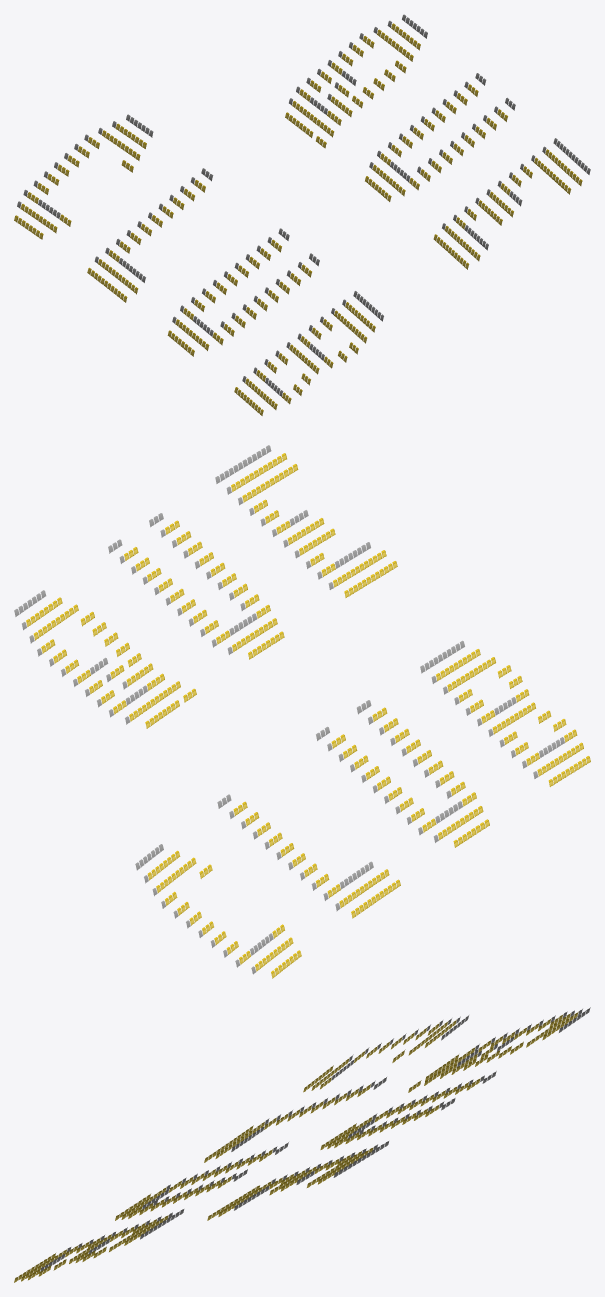
The model's file is bluechairs4justtext.obj.
The picture shows the model from 3 angles, top to bottom: view 1: azimuth 30°, elevation 25°; view 2: azimuth 150°, elevation 25°; view 3: azimuth 330°, elevation 25°; orthographic projection. The views are drawn at different scales.
Parts seen in each view (by area): view 1: sedie2anello164, sedie2anello03, sedie2anello165, sedie2anello02, sedie2anello163, sedie2anello169, sedie2anello01; view 2: sedie2anello164, sedie2anello03, sedie2anello165, sedie2anello163, sedie2anello02, sedie2anello169, sedie2anello01; view 3: sedie2anello164, sedie2anello03, sedie2anello165, sedie2anello163, sedie2anello02, sedie2anello169, sedie2anello01.
Part boxes in pixels (left/top/right/bottom): sedie2anello164: left=285, top=14, right=427, bottom=148; sedie2anello03: left=234, top=291, right=383, bottom=415; sedie2anello165: left=433, top=138, right=590, bottom=269; sedie2anello02: left=167, top=228, right=319, bottom=356; sedie2anello163: left=365, top=73, right=515, bottom=201; sedie2anello169: left=14, top=114, right=153, bottom=239; sedie2anello01: left=87, top=168, right=213, bottom=302; sedie2anello164: left=14, top=590, right=196, bottom=728; sedie2anello03: left=420, top=640, right=590, bottom=786; sedie2anello165: left=215, top=445, right=397, bottom=597; sedie2anello163: left=108, top=513, right=284, bottom=659; sedie2anello02: left=316, top=700, right=489, bottom=847; sedie2anello169: left=135, top=844, right=301, bottom=978; sedie2anello01: left=217, top=794, right=400, bottom=918; sedie2anello164: left=408, top=1007, right=590, bottom=1092; sedie2anello03: left=14, top=1209, right=184, bottom=1282; sedie2anello165: left=207, top=1141, right=388, bottom=1220; sedie2anello163: left=320, top=1071, right=496, bottom=1149; sedie2anello02: left=115, top=1142, right=288, bottom=1220; sedie2anello169: left=303, top=1015, right=468, bottom=1092; sedie2anello01: left=204, top=1077, right=386, bottom=1162.
Bounding box in the file's own units: 25.47 × 14.22 × 41.08.
2 materials, 1 textured.
